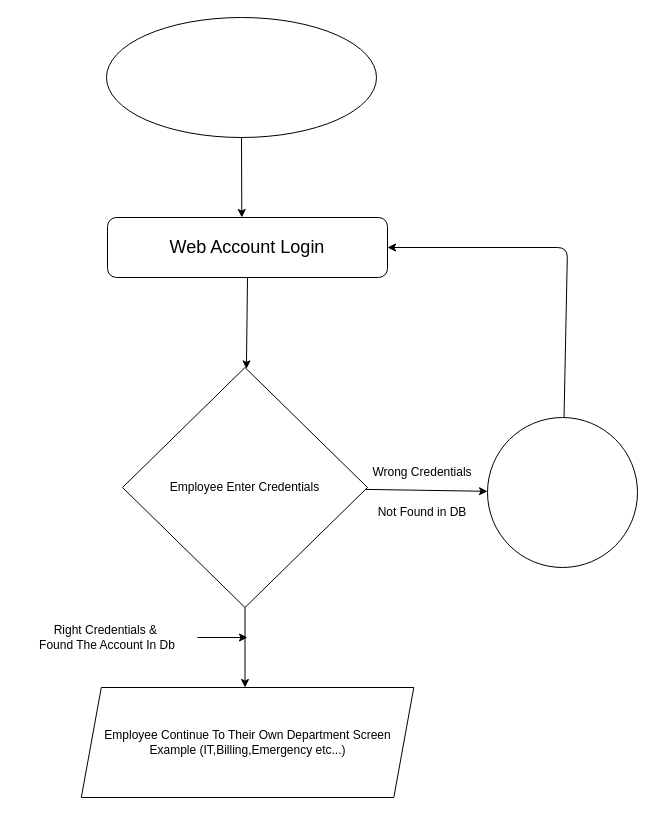
The diagram is 655 pixels wide and 815 high, and some of its shapes have lost their labels. The centre of each missing label's shape, as x and y in pixels:
Employee Login: (x=241, y=77)
Return Message "Error Credentials": (x=562, y=492)
